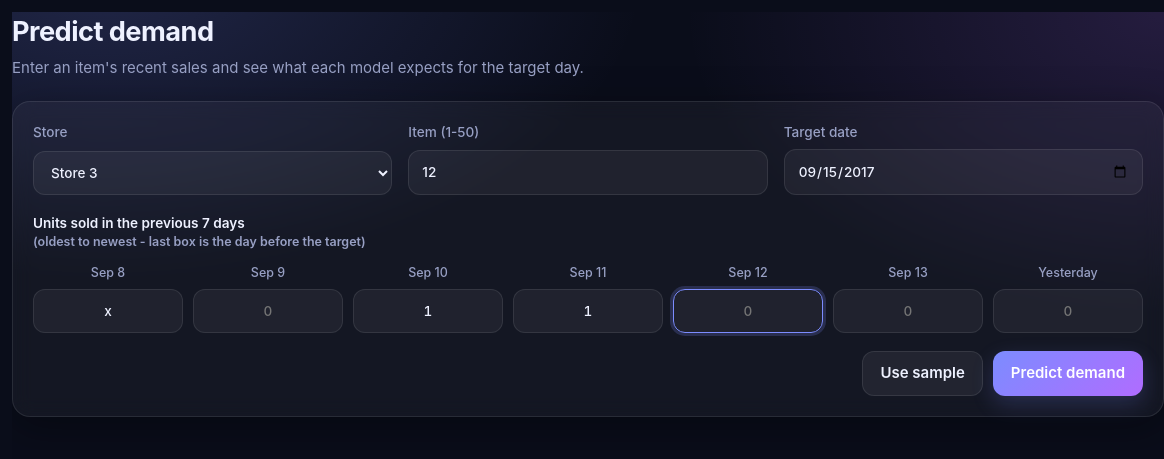
Test case: TC-04: client-side validation › rejects a non-numeric sales value and a missing sales value
The width and height of the screenshot is (1164, 459).
Earlier steps of the test are not shown.
Type "1" into the field named "Sales " at (748, 311), box [673,289,823,333]
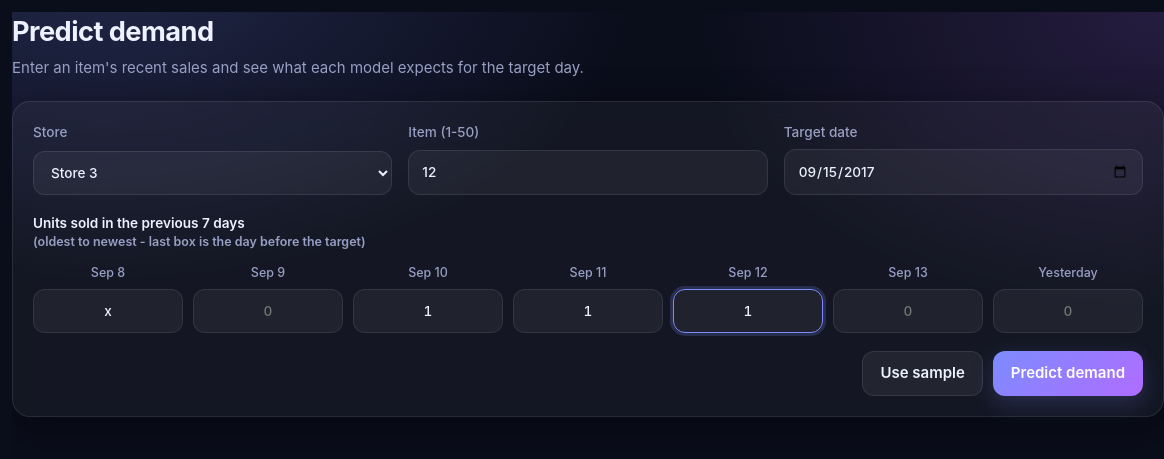
Type "1" into the field named "Sales " at (908, 311), box [833,289,983,333]
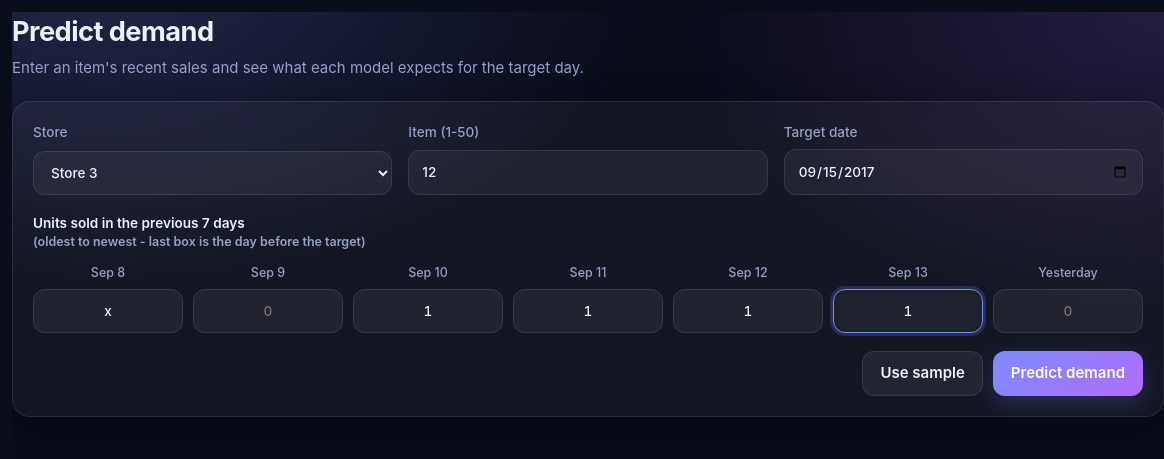
Type "1" into the field named "Sales " at (1068, 311), box [993,289,1143,333]
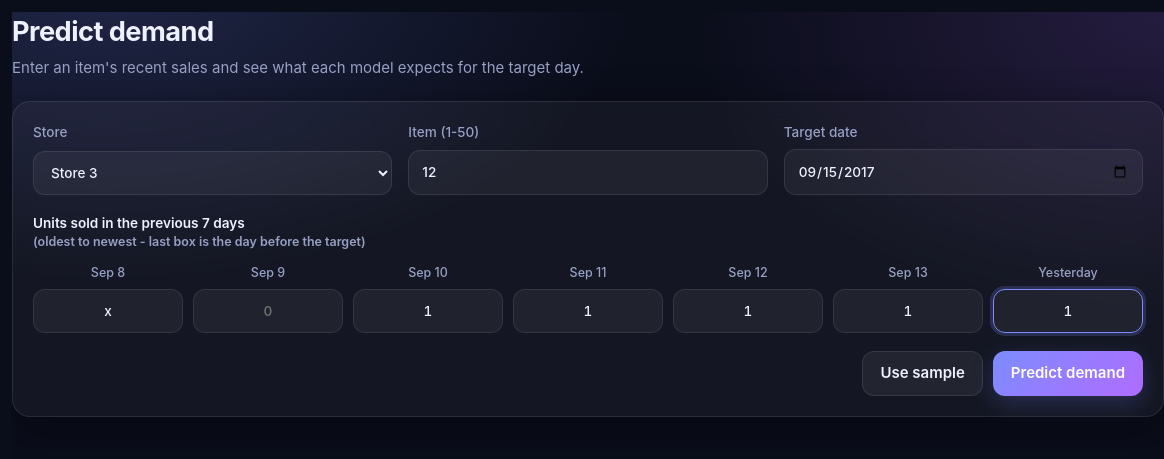
Click the button "Predict demand" at (1068, 374), box [993,351,1143,396]
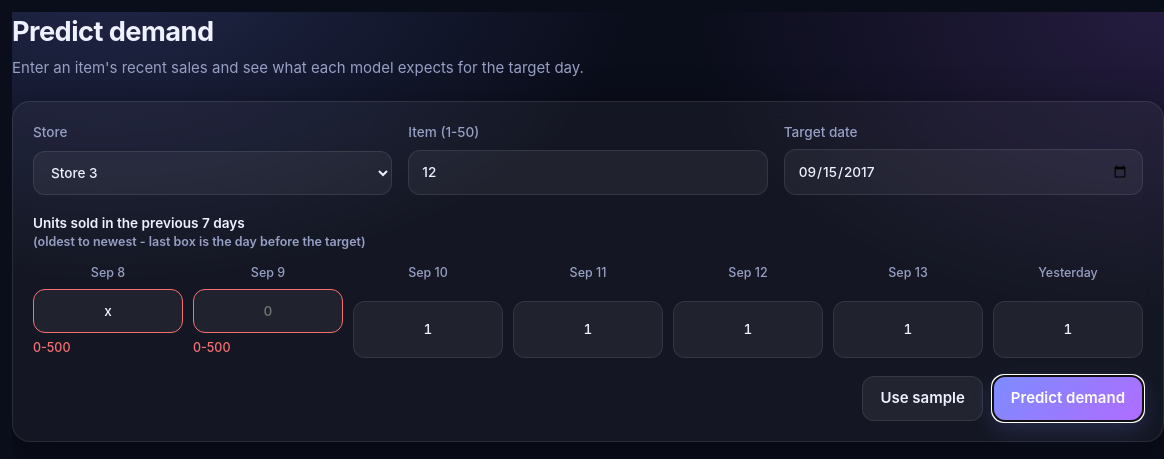
Check: the text "0-500" below "Sep 8" is shown, box [33,340,70,355]
